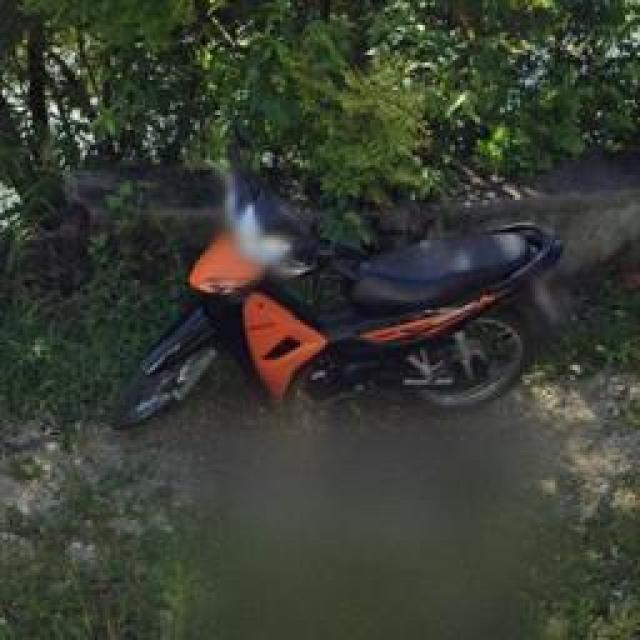Motor: (115, 178, 562, 430)
